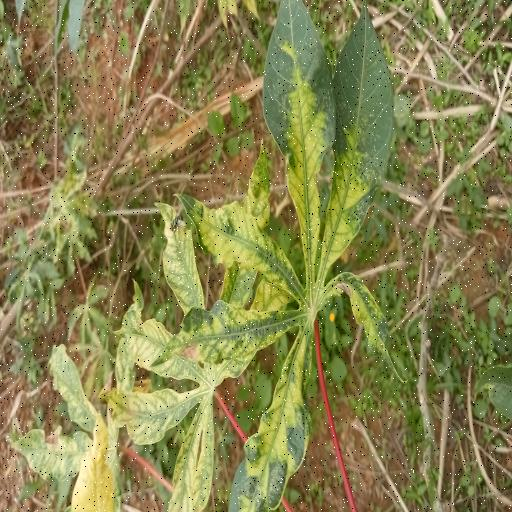Cassava_Mosaic: (152, 0, 408, 512), (102, 135, 304, 512)
